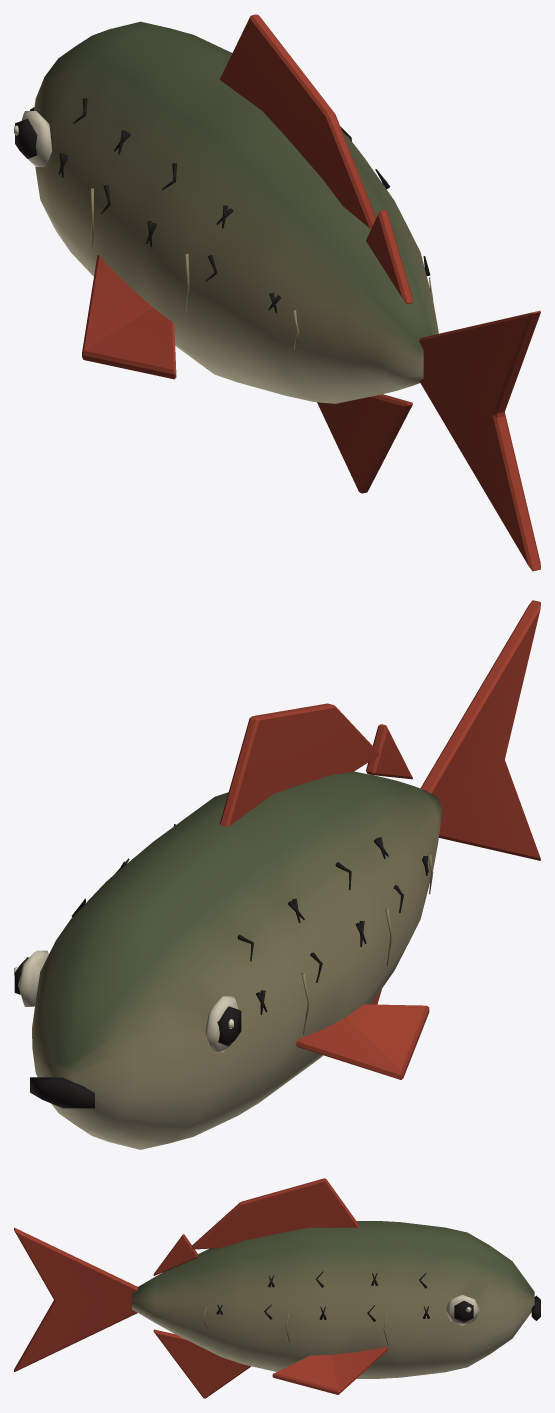
Rendered from fish_taimen.glb.
3 views of the same model, one above another, from view 1: azimuth 30°, elevation 25°; view 2: azimuth 150°, elevation 25°; view 3: azimuth 270°, elevation 25° (orthographic). The views are drawn at different scales.
Size of the model in its own units: 0.4235 by 0.5036 by 1.1.
